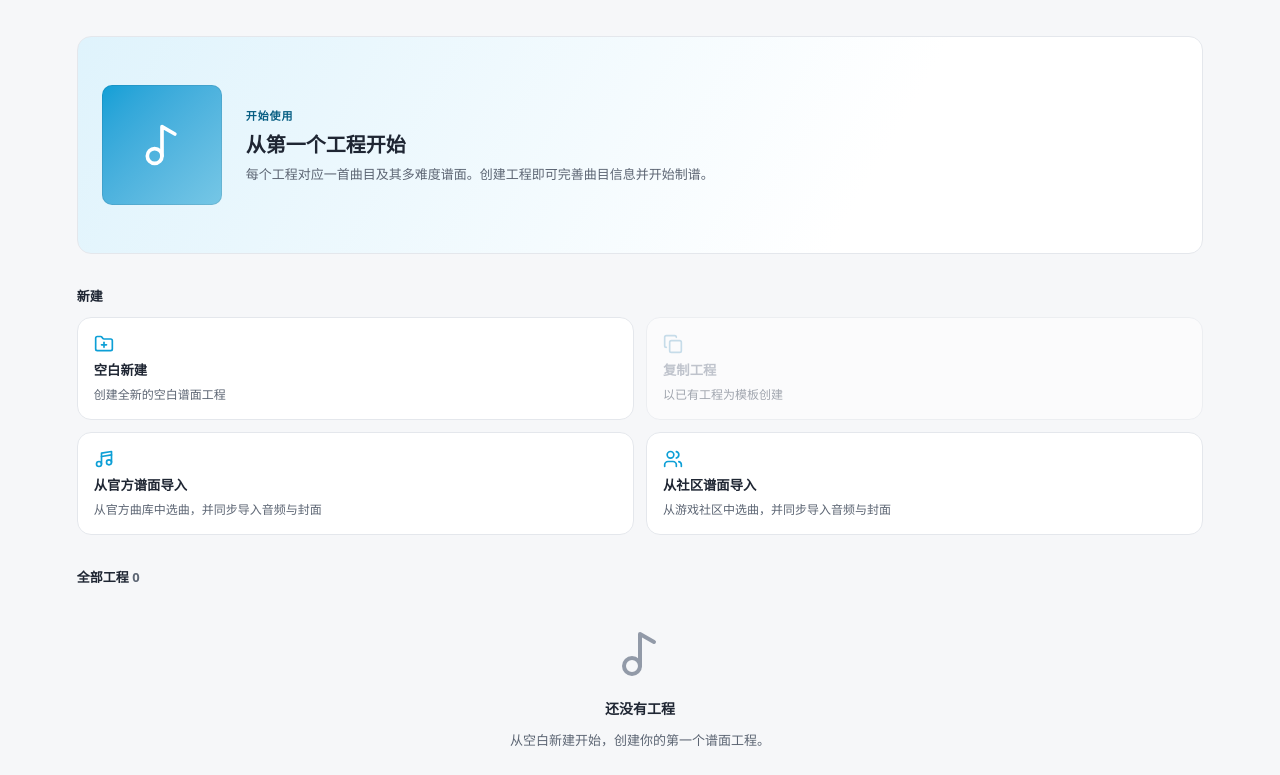
Test: 票 12 · 新建入口四项归类 › 没有工程时「复制工程」禁用，并写明原因（票 13 #3）
The width and height of the screenshot is (1280, 775).
Expected: the button "复制工程 以已有工程为模板创建" is disabled, [646,317,1203,420]
Expected: the heading "全部工程 0" is shown, [77,567,140,586]
Click the button "空白新建 创建全新的空白谱面工程" at {"x": 120, "y": 370}, box [77,317,634,420]
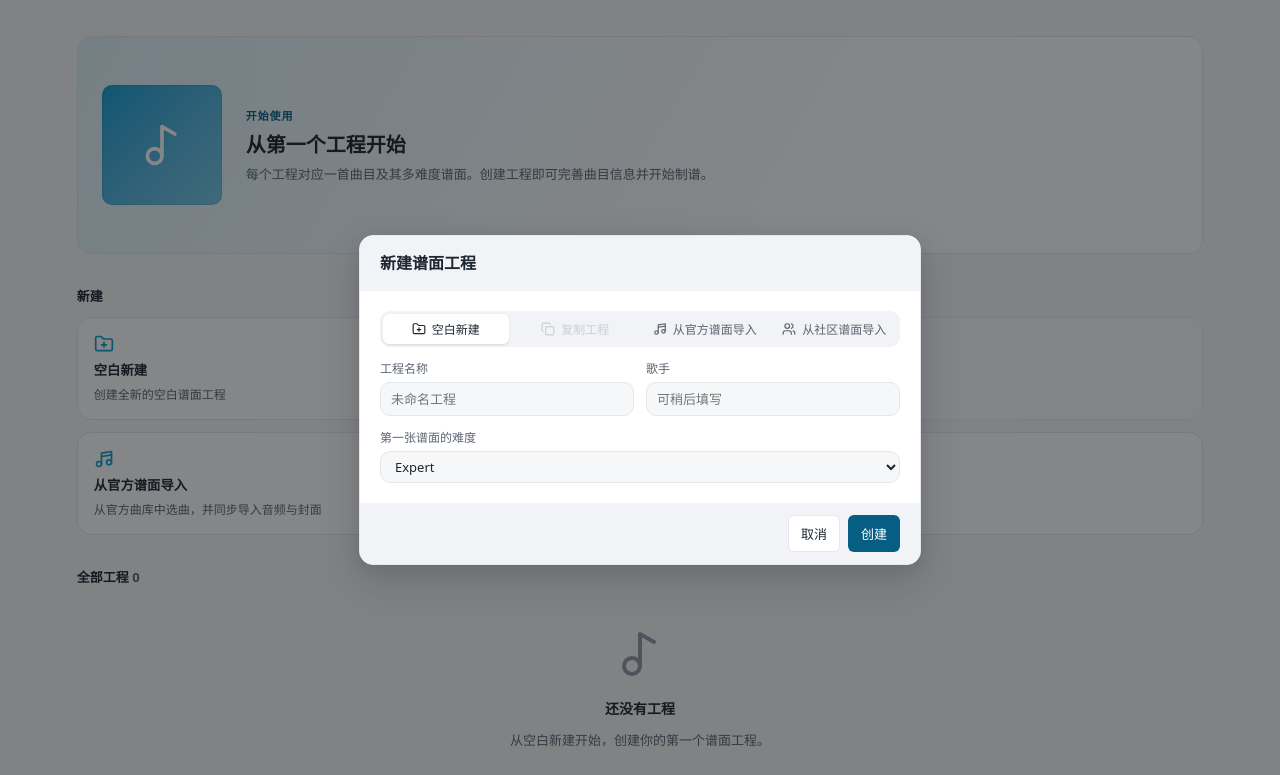
Result: the button "复制工程" is disabled at [512,314,638,344]
